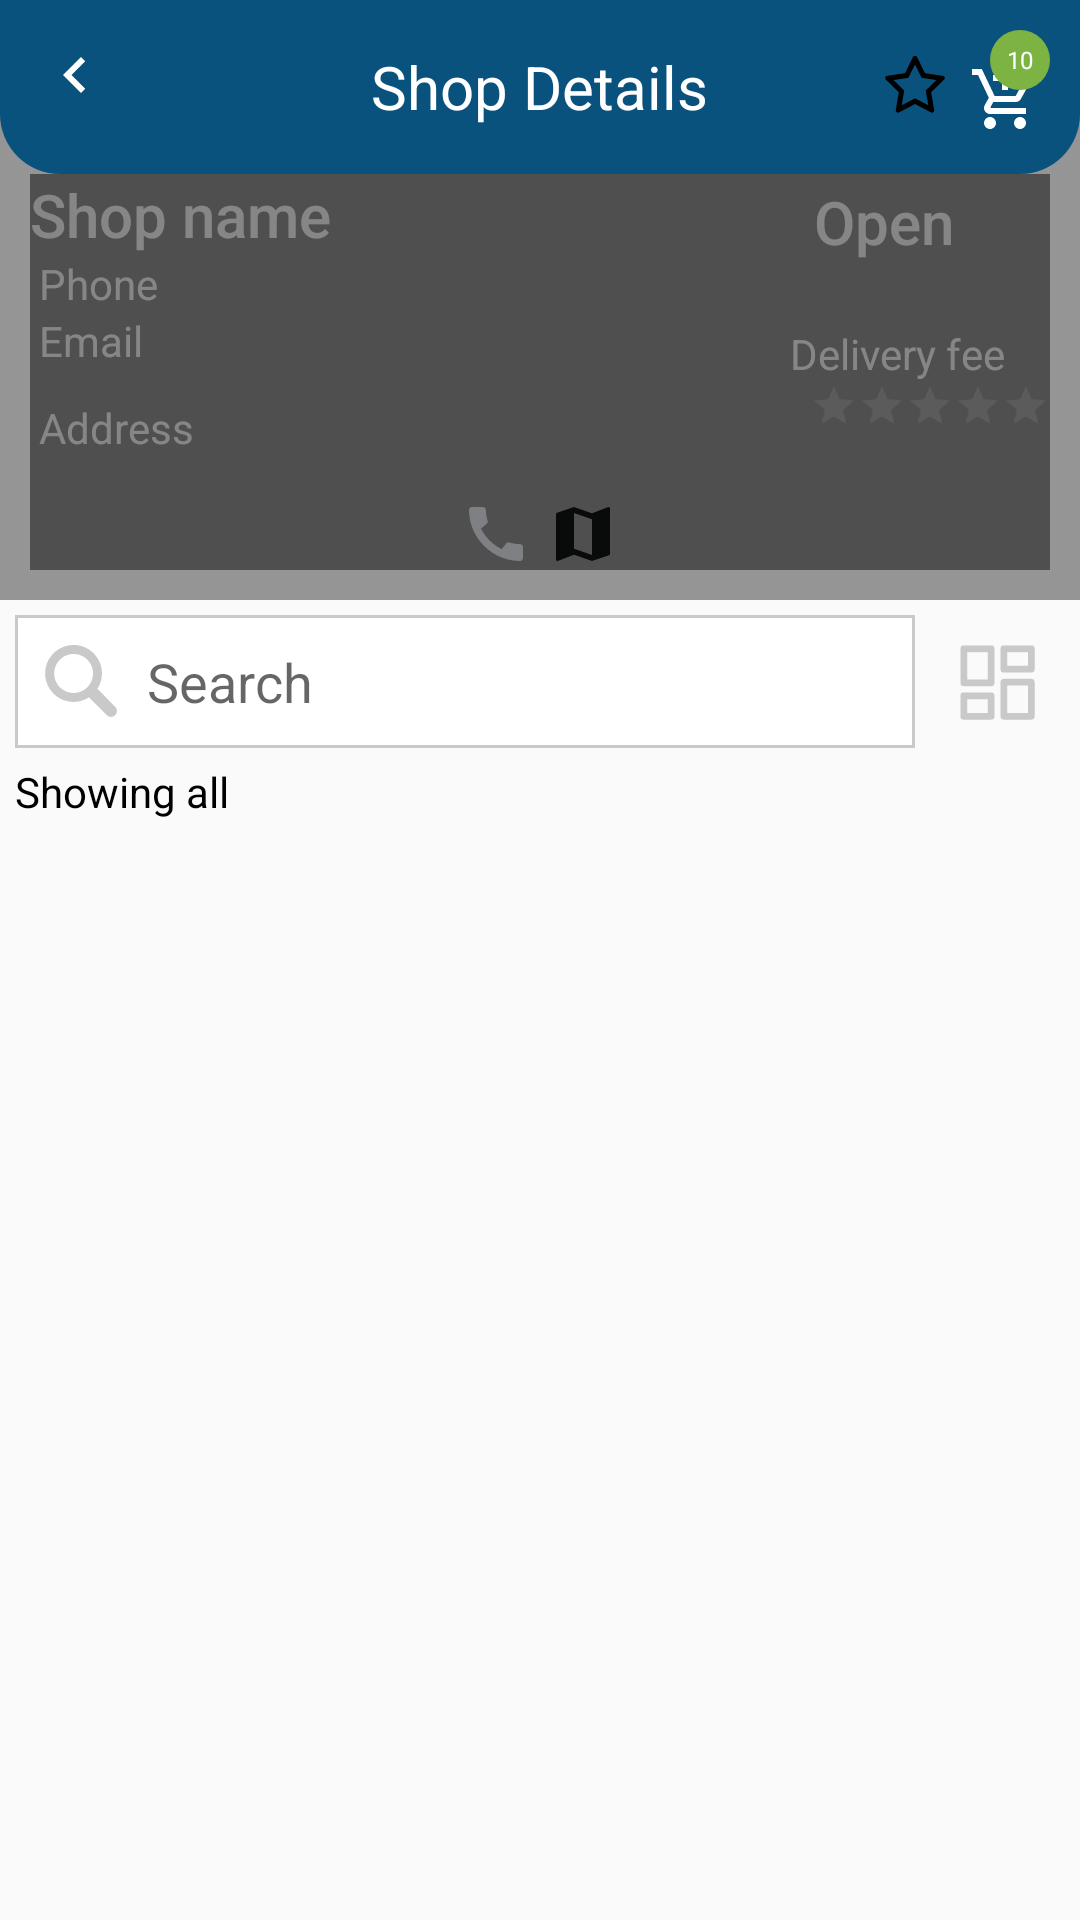

Where to tap for icons on this 1080x1920 app screen, as point (x, y):
back: point (74, 75)
call: point (496, 534)
map: point (583, 534)
star: point (915, 84)
